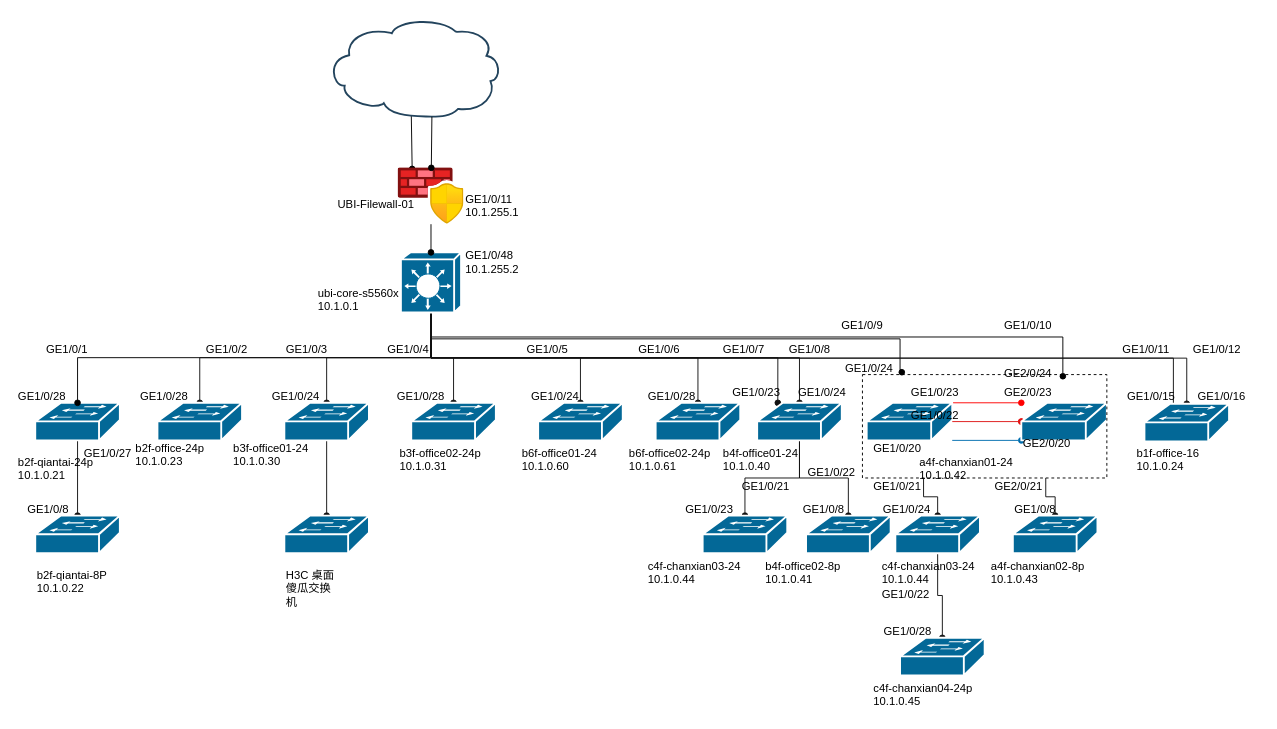
Image size: 1277x729. Some labels were removed from this diagram. The box of each missing label's shape, as (x1, y1, x2, y2) in pixels:
GE2/0/22: (1020, 401, 1107, 441)
Internet: (325, 16, 502, 118)
